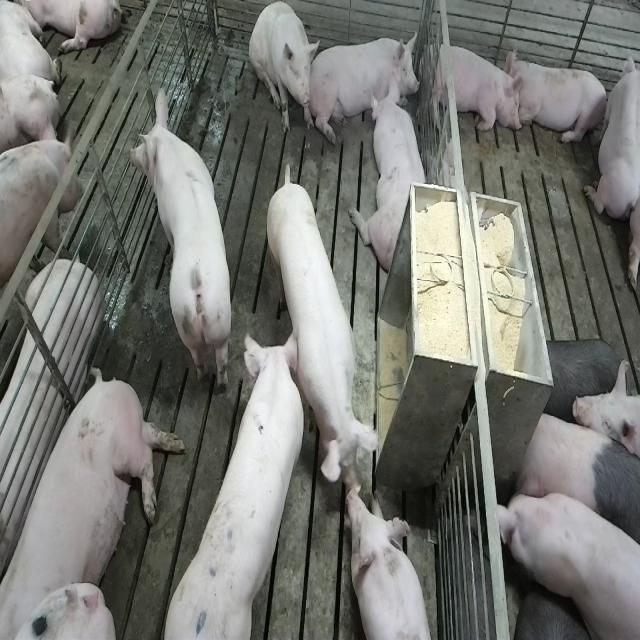Lateral_lying: (5, 368, 187, 640), (0, 259, 103, 579)
Sitting: (248, 2, 316, 138)
Standing: (157, 333, 307, 640), (264, 175, 379, 492), (128, 87, 234, 400), (498, 485, 638, 640), (0, 116, 82, 369), (512, 407, 638, 565)
Sternal_lying: (356, 83, 431, 275), (347, 486, 433, 640), (312, 28, 420, 137), (509, 52, 610, 149), (426, 38, 522, 138), (584, 45, 637, 224)
